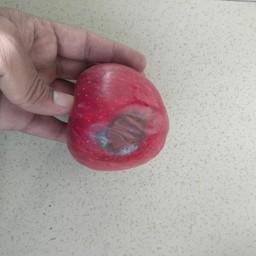Bad_apple: (66, 60, 170, 176)
